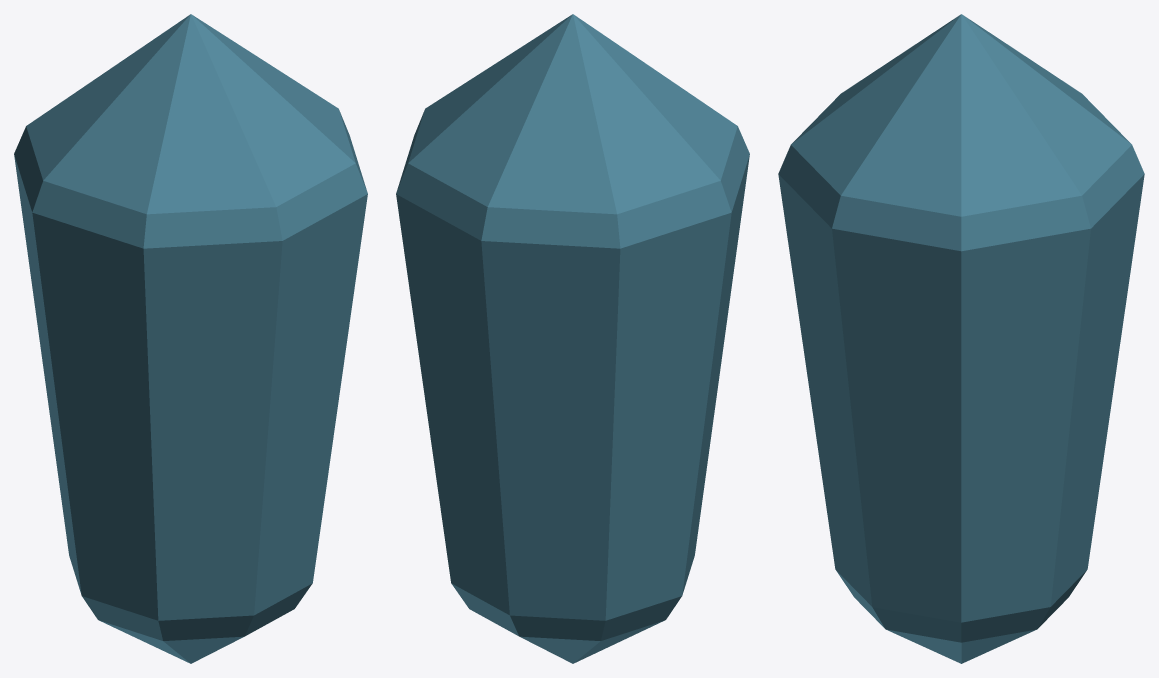
Rendered from SM_LP_RefinedMineral_1.fbx.
The picture shows the model from 3 angles, left to right: view 1: azimuth 30°, elevation 25°; view 2: azimuth 150°, elevation 25°; view 3: azimuth 270°, elevation 25°; orthographic projection.
Visible parts, largest first — view 1: SM_LP_RefinedMineral_1; view 2: SM_LP_RefinedMineral_1; view 3: SM_LP_RefinedMineral_1.
Boxes of the visible parts, x1,y1,x2,y2 form: SM_LP_RefinedMineral_1: (14, 14, 367, 663); SM_LP_RefinedMineral_1: (396, 14, 749, 663); SM_LP_RefinedMineral_1: (778, 14, 1144, 663).
Bounding box in the file's own units: 0.2321 × 0.4542 × 0.2321.
